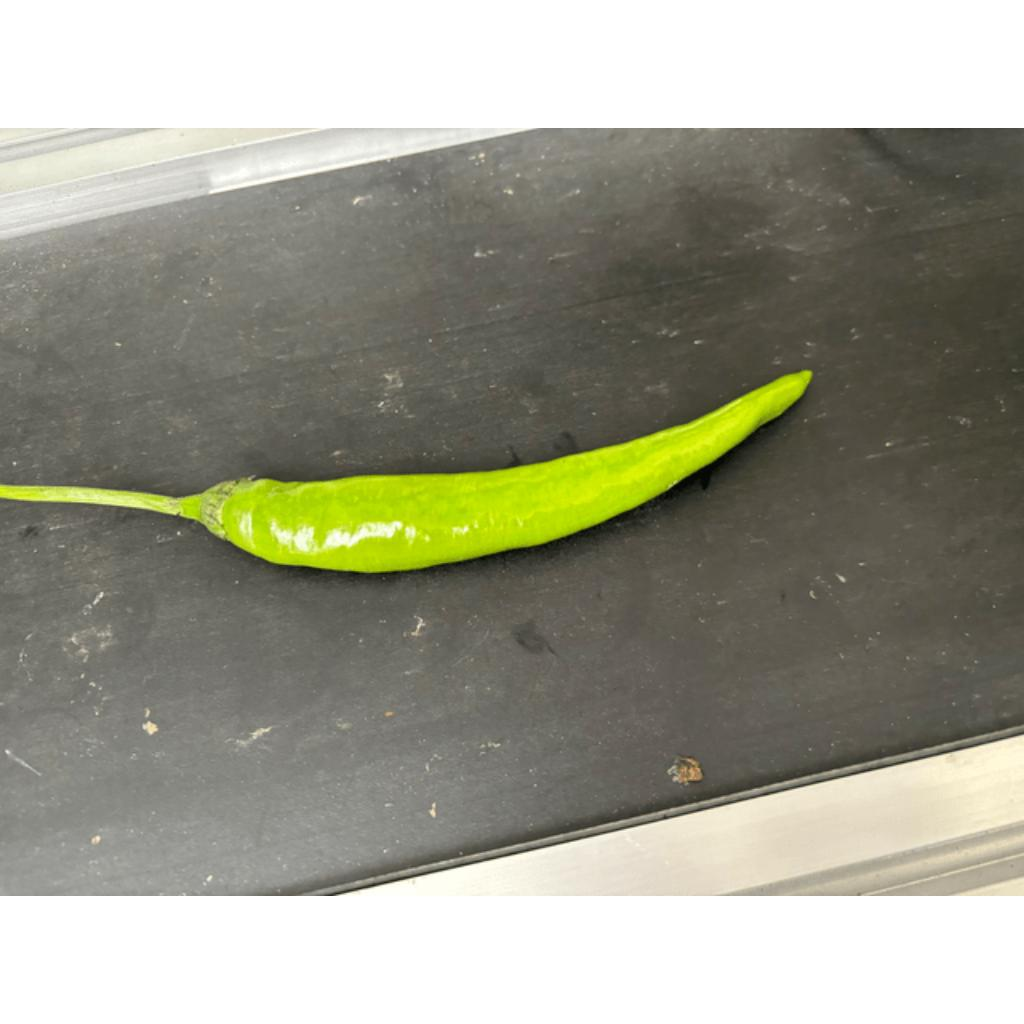chili: (198, 364, 816, 576)
